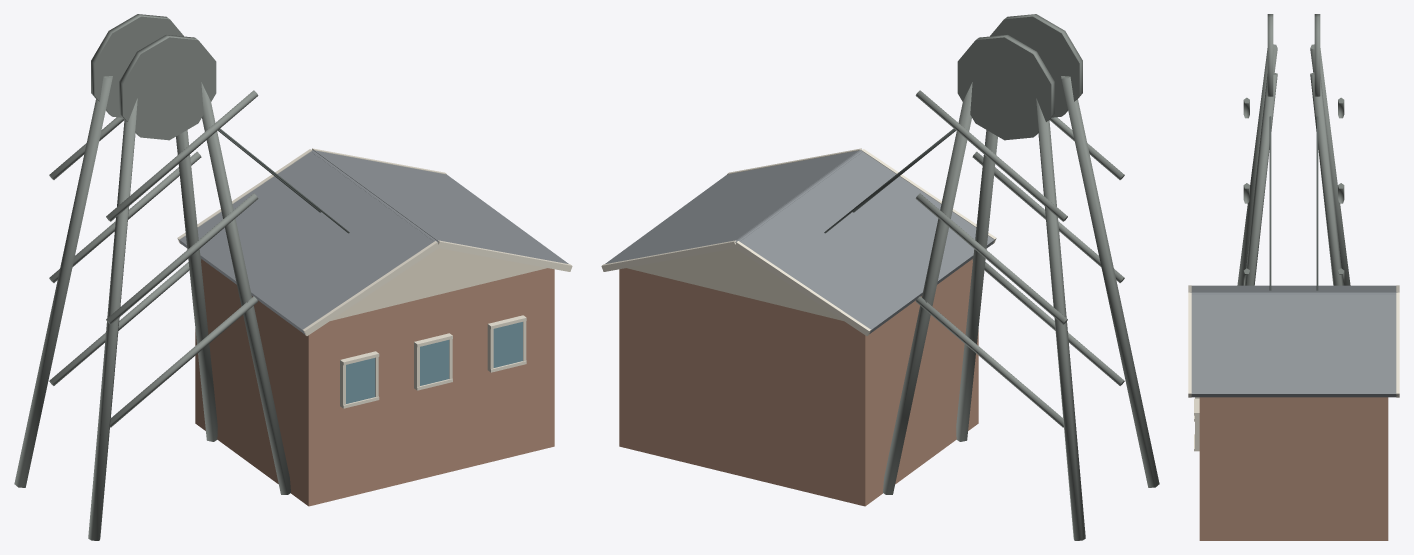
File: tyne-mine_lod1.glb
3 views of the same model, side by side, from view 1: azimuth 30°, elevation 25°; view 2: azimuth 150°, elevation 25°; view 3: azimuth 270°, elevation 25° (orthographic). The views are drawn at different scales.
Visible parts, largest first — view 1: RF_WindingHouse, RF_Roof.001, RF_Roof, RF_WindingWheel.001, RF_HeadframeLeg.001, RF_Gable, RF_HeadframeLeg.002, RF_HeadframeLeg.003, RF_HeadframeLeg, RF_WindingWheel, RF_HeadframeBrace.003, RF_HeadframeBrace.005 (+8 smaller); view 2: RF_WindingHouse, RF_Roof.001, RF_Roof, RF_WindingWheel, RF_HeadframeLeg.002, RF_Gable.001, RF_HeadframeLeg.001, RF_HeadframeLeg, RF_HeadframeLeg.003, RF_WindingWheel.001, RF_HeadframeBrace.004, RF_HeadframeBrace (+5 smaller); view 3: RF_WindingHouse, RF_Roof, RF_HeadframeLeg.003, RF_HeadframeLeg, RF_Roof.001, RF_HeadframeLeg.001, RF_HeadframeLeg.002, RF_Ridge, RF_WindingWheel.001, RF_WindingWheel, RF_WindingCable.001, RF_WindingCable (+2 smaller).
Boxes of the visible parts, x1,y1,x2,y2 form: RF_WindingHouse: (195, 259, 554, 506); RF_Roof.001: (179, 151, 434, 334); RF_Roof: (313, 150, 568, 263); RF_WindingWheel.001: (119, 35, 216, 140); RF_HeadframeLeg.001: (88, 98, 137, 540); RF_Gable: (330, 248, 546, 320); RF_HeadframeLeg.002: (14, 76, 112, 487); RF_HeadframeLeg.003: (201, 82, 290, 494); RF_HeadframeLeg: (176, 130, 217, 441); RF_WindingWheel: (91, 14, 183, 117); RF_HeadframeBrace.003: (106, 193, 258, 324); RF_HeadframeBrace.005: (106, 90, 258, 221); RF_WindingHouse: (619, 259, 978, 506); RF_Roof.001: (739, 151, 994, 333); RF_Roof: (605, 150, 860, 263); RF_WindingWheel: (957, 35, 1054, 140); RF_HeadframeLeg.002: (1036, 98, 1085, 540); RF_Gable.001: (627, 248, 843, 320); RF_HeadframeLeg.001: (1061, 76, 1159, 487); RF_HeadframeLeg: (883, 82, 972, 494); RF_HeadframeLeg.003: (956, 130, 997, 441); RF_WindingWheel.001: (990, 14, 1082, 117); RF_HeadframeBrace.004: (915, 193, 1067, 324); RF_HeadframeBrace: (915, 90, 1067, 221); RF_WindingHouse: (1199, 397, 1388, 540); RF_Roof: (1191, 293, 1397, 397); RF_HeadframeLeg.003: (1244, 72, 1277, 285); RF_HeadframeLeg: (1310, 72, 1343, 285); RF_Roof.001: (1190, 285, 1397, 292); RF_HeadframeLeg.001: (1237, 44, 1277, 285); RF_HeadframeLeg.002: (1310, 44, 1350, 285); RF_Ridge: (1192, 292, 1395, 294); RF_WindingWheel.001: (1267, 14, 1273, 96); RF_WindingWheel: (1314, 14, 1320, 96); RF_WindingCable.001: (1269, 116, 1271, 290); RF_WindingCable: (1316, 116, 1318, 290).
Size of the model in its own units: 18.53 by 18.04 by 8.98.
